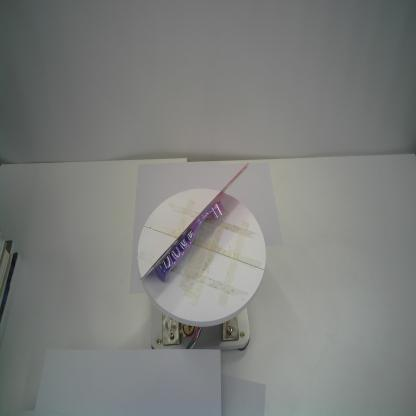Personal Hygiene: (139, 162, 249, 285)
